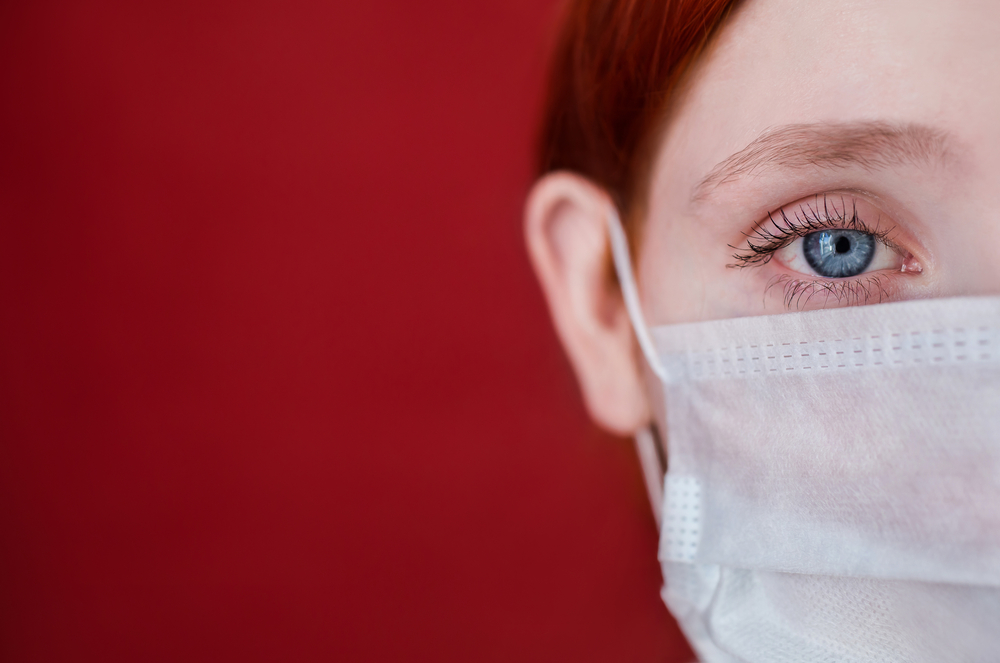mask: (611, 267, 1000, 659)
